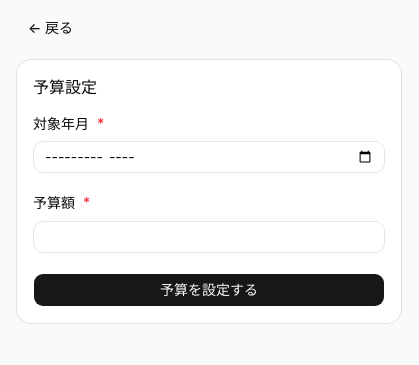
it: AddBudget › 同じ年月の予算が既に存在する場合はエラーが表示されること
This screenshot has width=419, height=365.
Type "2026-04" into the field labelled "対象年月 *".
click(209, 157); type("2026-04")  # box [33,141,385,173]
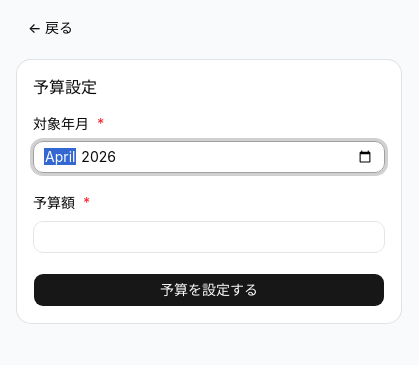
Type "10000" into the field labelled "予算額 *".
click(209, 236); type("10000")  # box [33,220,385,252]
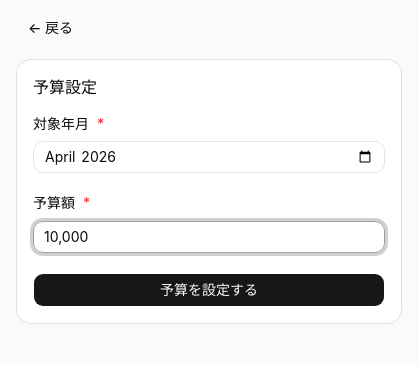
Click the button "予算を設定する".
click(209, 290)  # box [33,272,385,306]
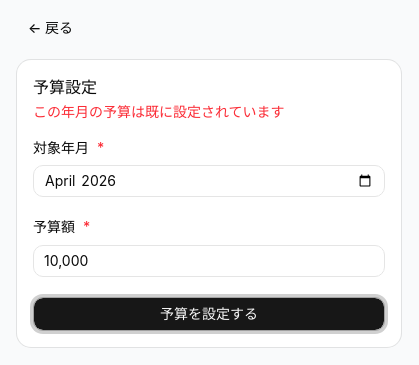
Result: the text "この年月の予算は既に設定されています" is shown at [33,103,285,120]
